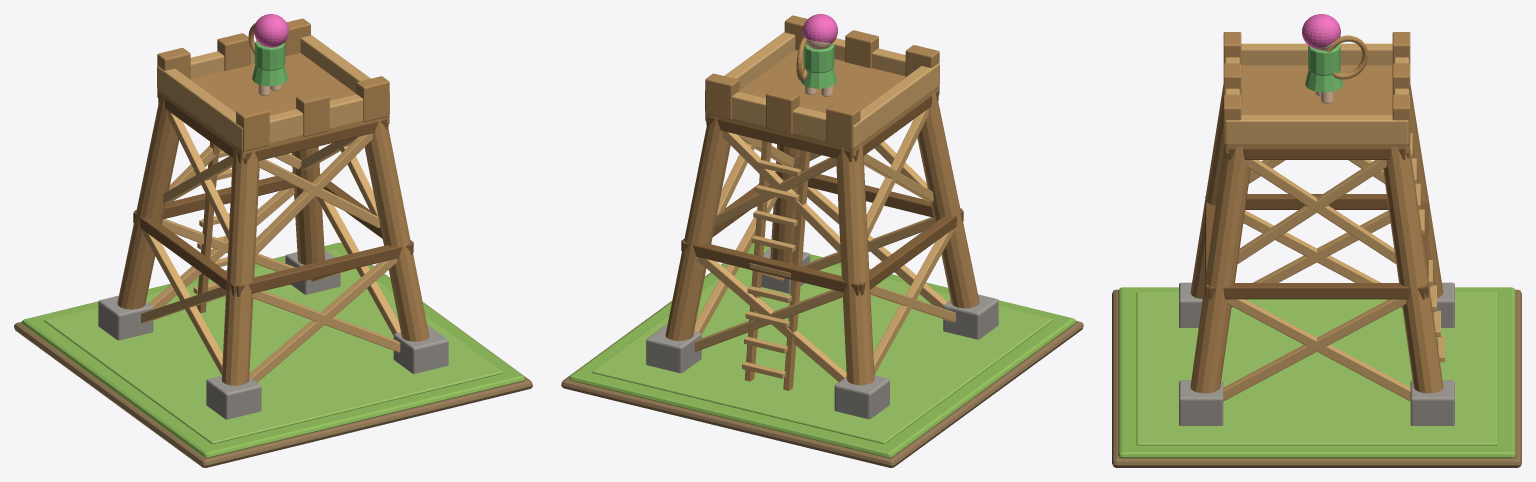
File: archer_tower_lv1.glb
The picture shows the model from 3 angles, left to right: view 1: azimuth 30°, elevation 25°; view 2: azimuth 150°, elevation 25°; view 3: azimuth 270°, elevation 25°; orthographic projection. The views are drawn at different scales.
Parts seen in each view (by area): view 1: Base_Inner, Base_Grass, TowerLeg_-1_-1, Base_Dirt, TowerLeg_1_-1, TopDeck, TowerLeg_-1_1, ParapetLR_-1, HorizBeamX_0_-1, TowerLeg_1_1, XBraceFB_0_-1_1, ParapetFB_-1 (+33 smaller); view 2: Base_Inner, Base_Grass, TowerLeg_-1_1, Base_Dirt, TowerLeg_1_1, TopDeck, TowerLeg_-1_-1, ParapetLR_-1, HorizBeamX_0_1, XBraceFB_0_1_1, ParapetFB_1, LegFooting_-1_1 (+31 smaller); view 3: Base_Inner, Base_Grass, TopDeck, TowerLeg_1_1, TowerLeg_1_-1, Base_Dirt, ParapetLR_1, HorizBeamY_0_1, ParapetLR_-1, XBraceLR_0_1_1, XBraceLR_0_1_-1, XBraceLR_1_1_1 (+22 smaller).
Part boxes in pixels (bbox=[...]): Base_Inner: bbox=[44, 249, 502, 444]; Base_Grass: bbox=[21, 242, 525, 457]; TowerLeg_-1_-1: bbox=[221, 147, 259, 385]; Base_Dirt: bbox=[14, 265, 532, 467]; TowerLeg_1_-1: bbox=[364, 119, 429, 341]; TopDeck: bbox=[157, 53, 389, 159]; TowerLeg_-1_1: bbox=[117, 94, 179, 309]; ParapetLR_-1: bbox=[157, 66, 242, 149]; HorizBeamX_0_-1: bbox=[236, 242, 412, 296]; TowerLeg_1_1: bbox=[291, 146, 324, 264]; XBraceFB_0_-1_1: bbox=[249, 258, 397, 382]; ParapetFB_-1: bbox=[242, 93, 389, 150]; Base_Inner: bbox=[591, 248, 1052, 443]; Base_Grass: bbox=[569, 243, 1075, 457]; TowerLeg_-1_1: bbox=[836, 144, 874, 385]; Base_Dirt: bbox=[561, 263, 1083, 467]; TowerLeg_1_1: bbox=[665, 116, 730, 340]; TopDeck: bbox=[705, 50, 939, 157]; TowerLeg_-1_-1: bbox=[917, 91, 979, 308]; ParapetLR_-1: bbox=[853, 63, 939, 147]; HorizBeamX_0_1: bbox=[682, 241, 859, 295]; XBraceFB_0_1_1: bbox=[698, 257, 846, 381]; ParapetFB_1: bbox=[705, 91, 853, 148]; LegFooting_-1_1: bbox=[834, 375, 889, 419]; Base_Inner: bbox=[1136, 292, 1497, 445]; Base_Grass: bbox=[1118, 287, 1515, 458]; TopDeck: bbox=[1225, 65, 1408, 154]; TowerLeg_1_1: bbox=[1383, 145, 1443, 393]; TowerLeg_1_-1: bbox=[1190, 145, 1250, 393]; Base_Dirt: bbox=[1112, 289, 1521, 467]; ParapetLR_1: bbox=[1225, 115, 1408, 144]; HorizBeamY_0_1: bbox=[1208, 283, 1425, 299]; ParapetLR_-1: bbox=[1241, 43, 1392, 65]; XBraceLR_0_1_1: bbox=[1227, 299, 1410, 401]; XBraceLR_0_1_-1: bbox=[1223, 299, 1406, 401]; XBraceLR_1_1_1: bbox=[1247, 160, 1396, 263].
Bounding box in the file's own units: 2.76 × 2.73 × 2.76.
